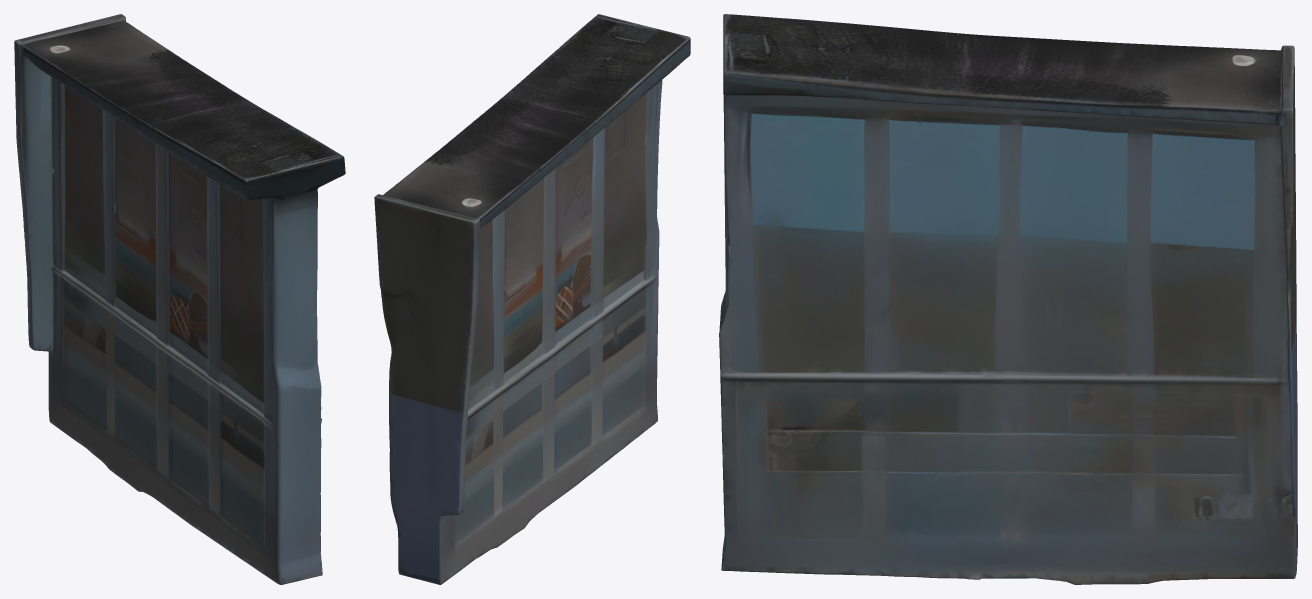
The model's file is hamilton-hotel.glb.
The picture shows the model from 3 angles, left to right: view 1: azimuth 30°, elevation 25°; view 2: azimuth 150°, elevation 25°; view 3: azimuth 270°, elevation 25°; orthographic projection. The views are drawn at different scales.
Visible parts, largest first — view 1: tripo_node_97094bb7-ec71-4fe1-b115-5065d65f6b39; view 2: tripo_node_97094bb7-ec71-4fe1-b115-5065d65f6b39; view 3: tripo_node_97094bb7-ec71-4fe1-b115-5065d65f6b39.
Boxes of the visible parts, x1,y1,x2,y2 form: tripo_node_97094bb7-ec71-4fe1-b115-5065d65f6b39: (14,14,345,584); tripo_node_97094bb7-ec71-4fe1-b115-5065d65f6b39: (374,14,690,584); tripo_node_97094bb7-ec71-4fe1-b115-5065d65f6b39: (719,14,1297,584).
Size of the model in its own units: 0.2657 by 0.9999 by 0.9972.
1 material, 1 textured.
